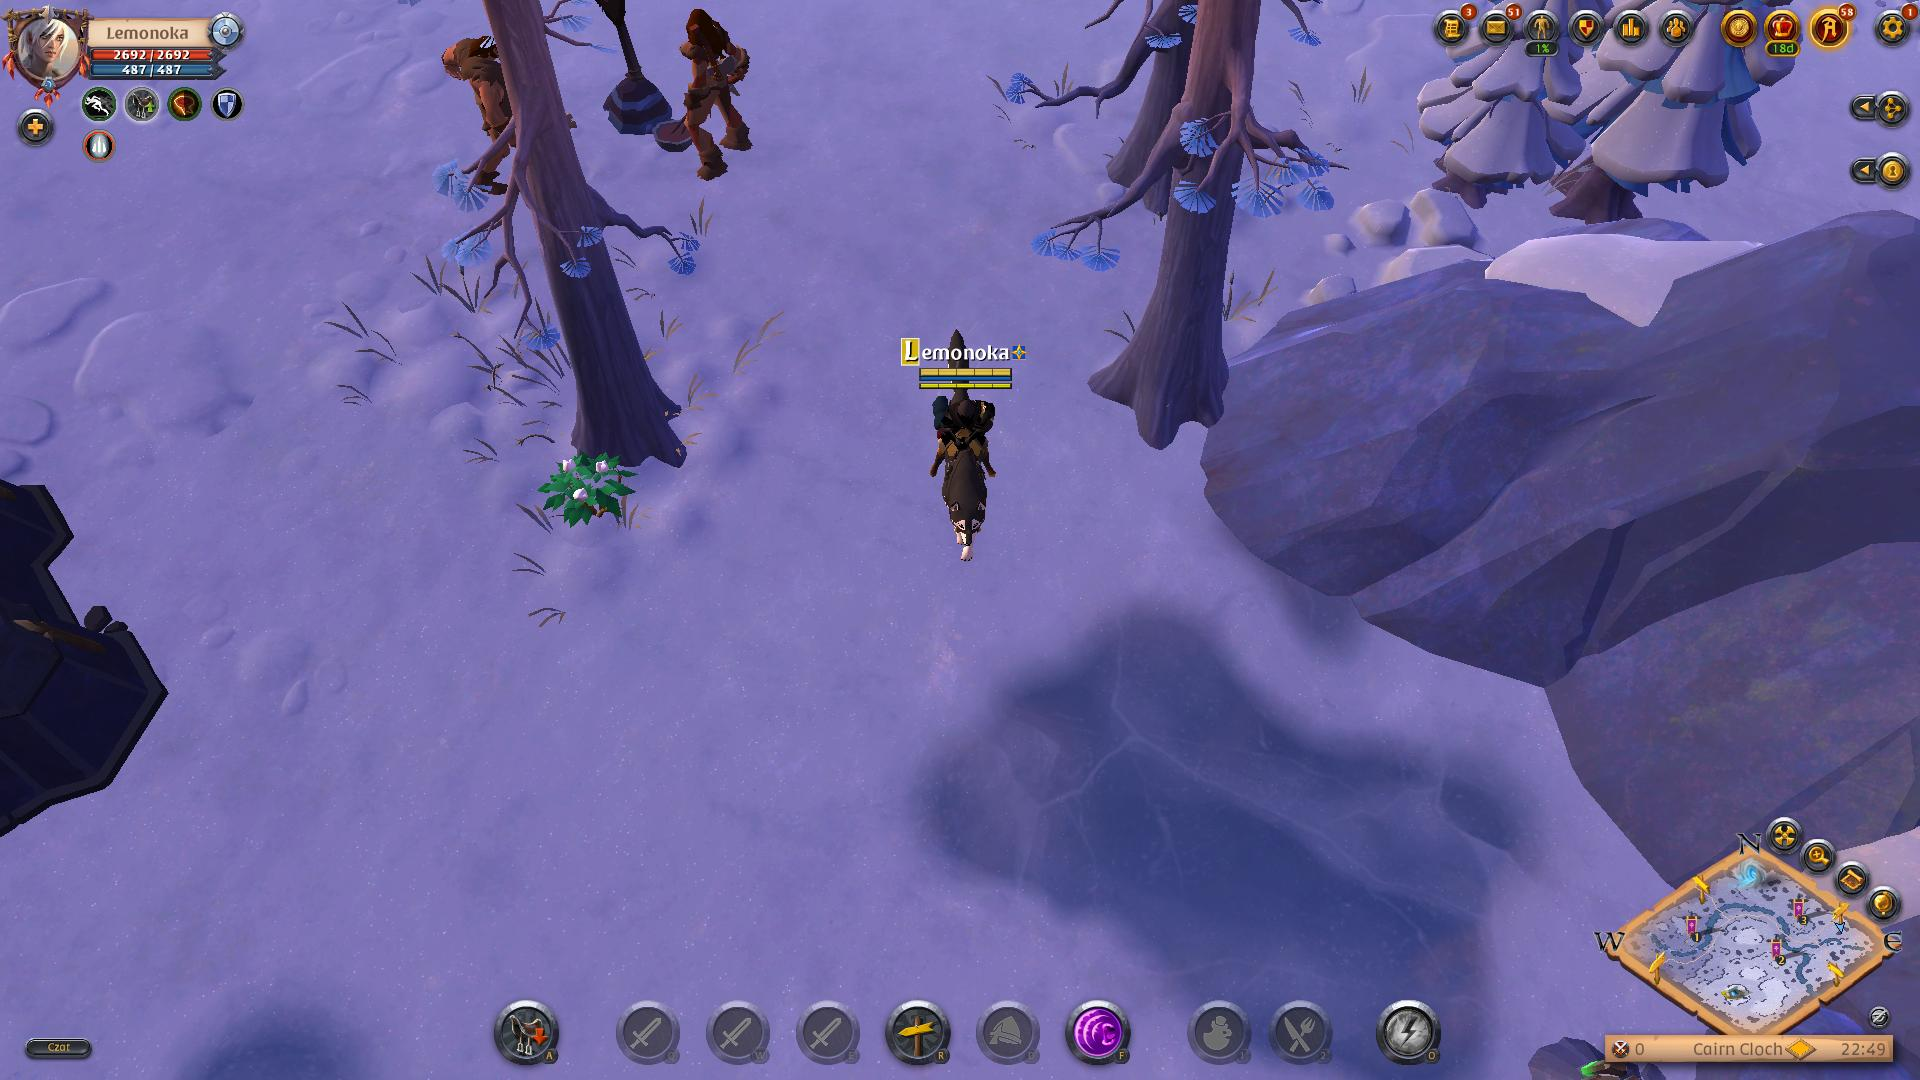fiber tier 3: (537, 444, 638, 530)
